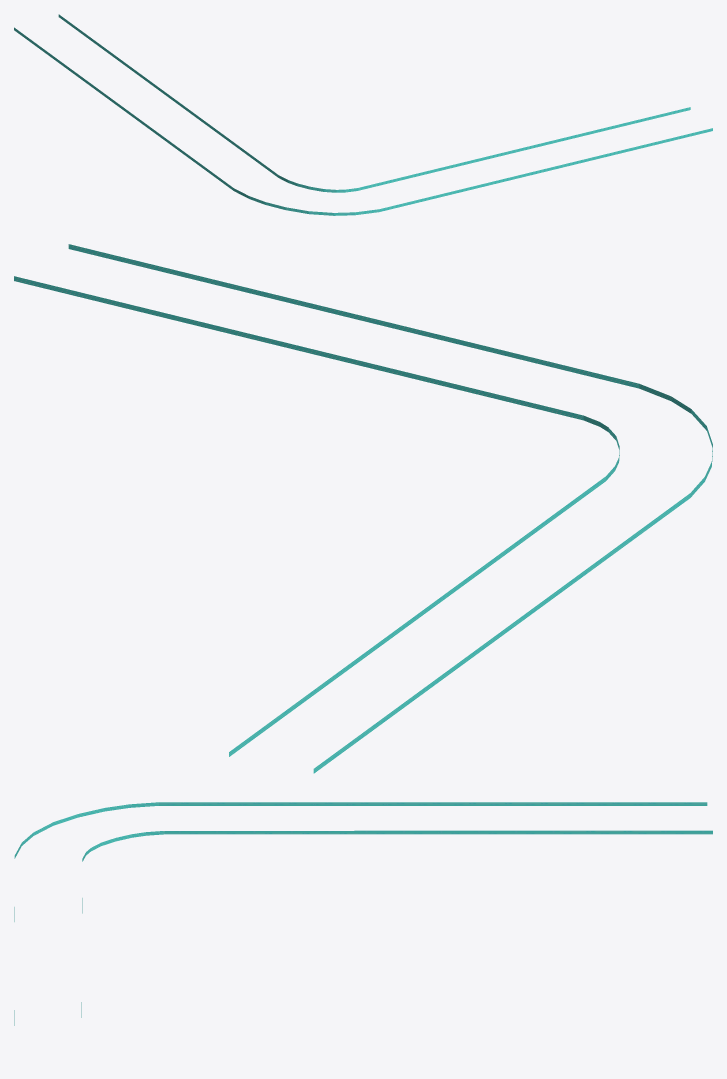
File: rc_02_bud_01_05.FBX
3 views of the same model, one above another, from view 1: azimuth 30°, elevation 25°; view 2: azimuth 150°, elevation 25°; view 3: azimuth 270°, elevation 25° (orthographic). The views are drawn at different scales.
Visible parts, largest first — view 1: rc_02_bud_01_05; view 2: rc_02_bud_01_05; view 3: rc_02_bud_01_05.
Part boxes in pixels (x1,y1,x2,y2): rc_02_bud_01_05: [14, 14, 712, 215]; rc_02_bud_01_05: [14, 244, 712, 773]; rc_02_bud_01_05: [14, 802, 712, 1025].
Size of the model in its own units: 29574 by 33742 by 193.
